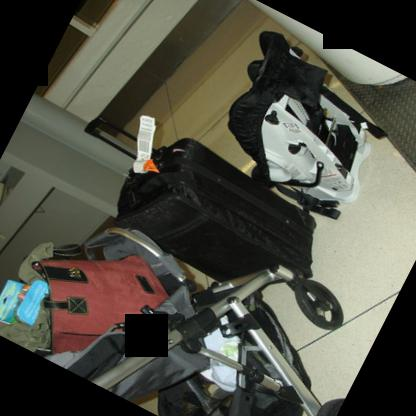backpack: (226, 31, 389, 218)
handbag: (31, 253, 170, 353)
suitcase: (113, 136, 316, 281)
